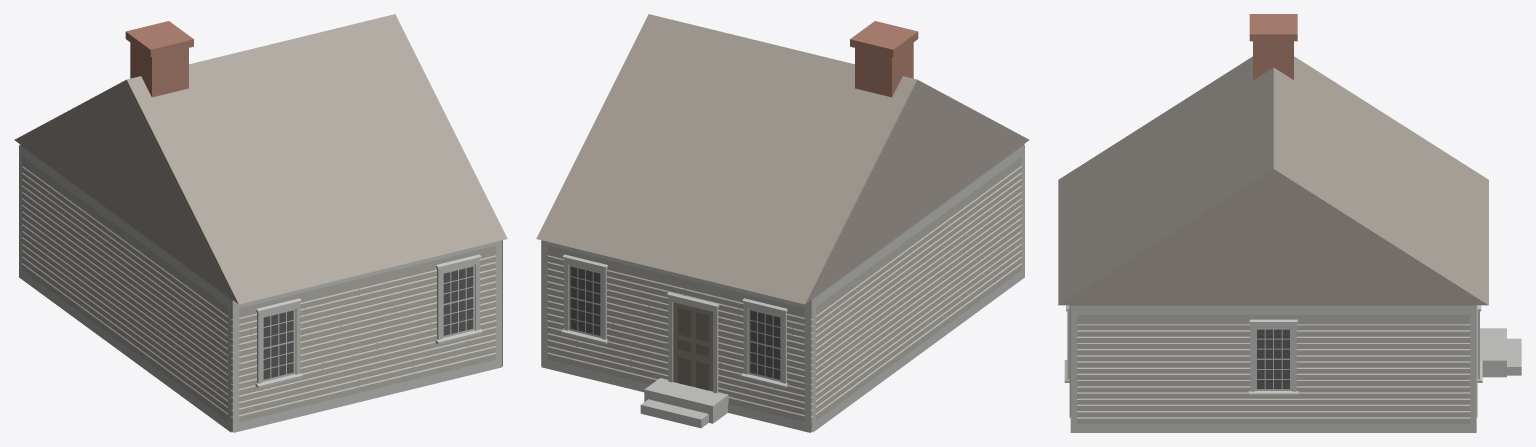
Rendered from recon_1835_south_d4_030__inferred_1835.glb.
3 renders of one model, left to right at view 1: azimuth 30°, elevation 25°; view 2: azimuth 150°, elevation 25°; view 3: azimuth 270°, elevation 25°, orthographic. The views are drawn at different scales.
Parts seen in each view (by area): view 1: recon_1835_south_d4_030__inferred_1835; view 2: recon_1835_south_d4_030__inferred_1835; view 3: recon_1835_south_d4_030__inferred_1835.
Part boxes in pixels (x1,y1,x2,y2): recon_1835_south_d4_030__inferred_1835: [14, 14, 507, 432]; recon_1835_south_d4_030__inferred_1835: [536, 14, 1029, 432]; recon_1835_south_d4_030__inferred_1835: [1058, 14, 1521, 432].
Bounding box in the file's own units: 6.23 × 6.72 × 9.47.
